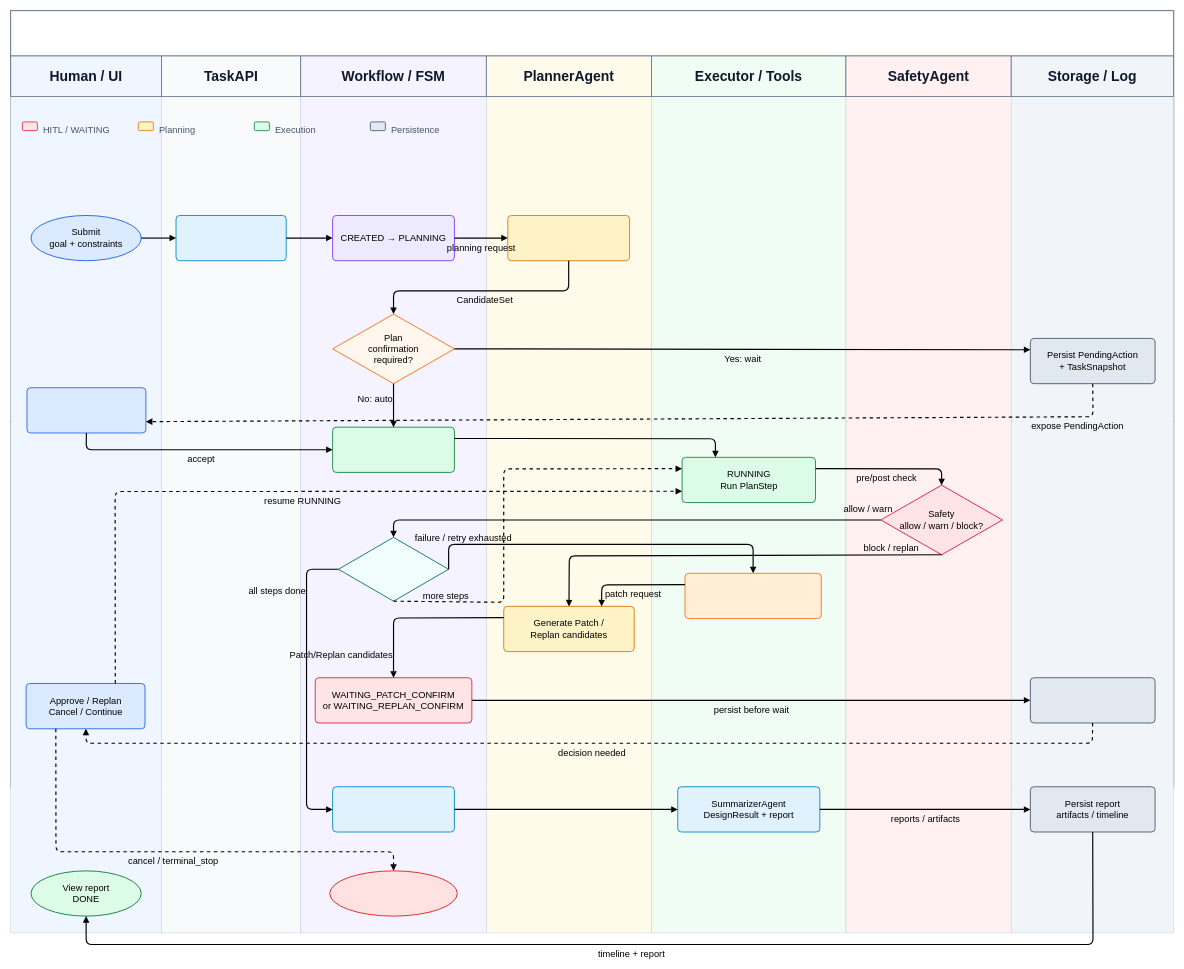
This 1184x969 diagram has some shape labels left out. The shapes that lost their labels are listed below. From the top down, each one's box as (x1, y1, x2, y2) in pixels, then its label:
(10, 10, 1174, 56): 任务生命周期泳道图：FSM、HITL 与恢复闭环
(175, 215, 286, 261): Validate schema Create TaskRecord
(507, 215, 630, 261): Generate Top-K Plan candidates
(26, 387, 146, 433): Review candidates Submit Decision
(332, 426, 455, 473): PLANNED Decision applied
(338, 537, 449, 601): Step finished?
(684, 573, 821, 619): Retry / local failure stop further tools
(1030, 677, 1155, 723): Write EventLog + recovery Snapshot
(332, 786, 455, 832): SUMMARIZING
(329, 870, 458, 916): FAILED / CANCELLED terminal
